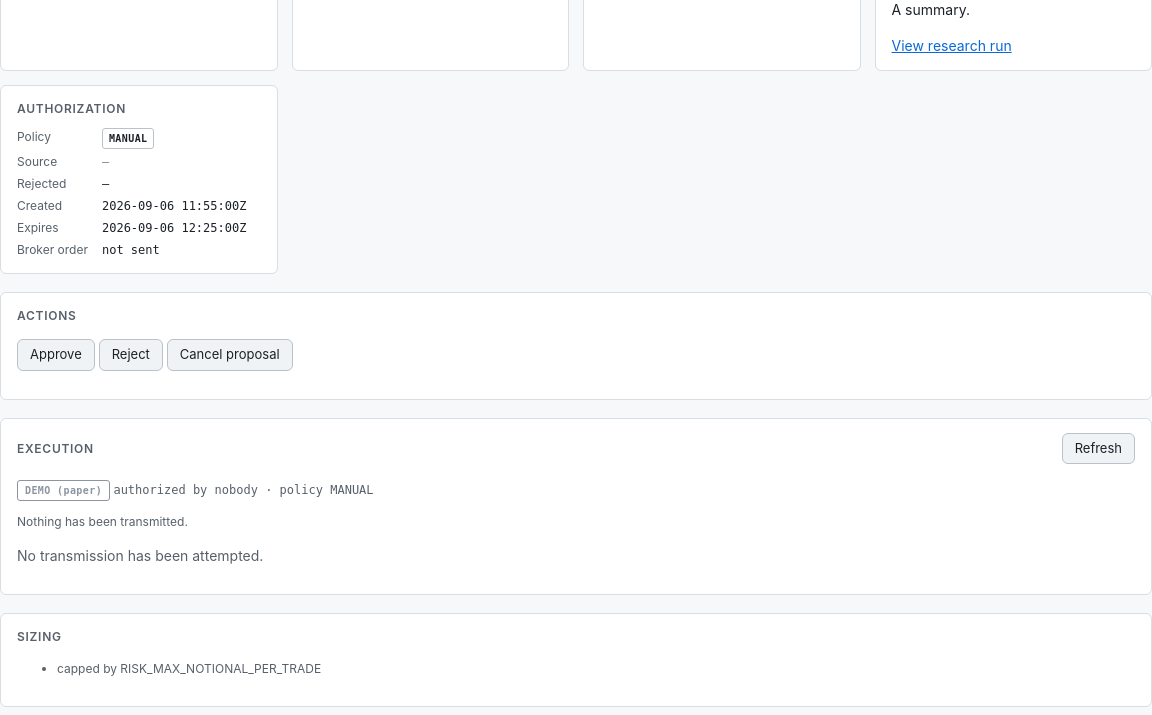
Test: Proposal authorization › shows a risk refusal as an answer, with its status
(page scrolled)
Click the button "Approve" at [56, 355], box [17,339,95,371]
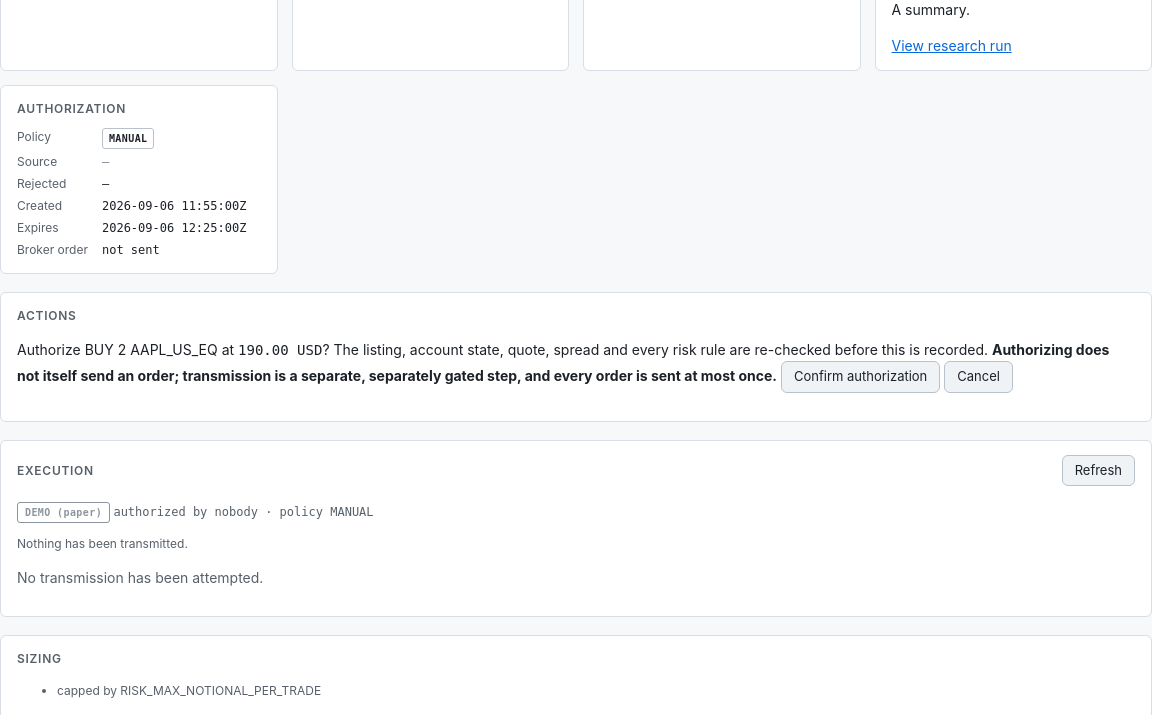
Click the button "Confirm authorization" at [861, 377], box [781,361,940,393]
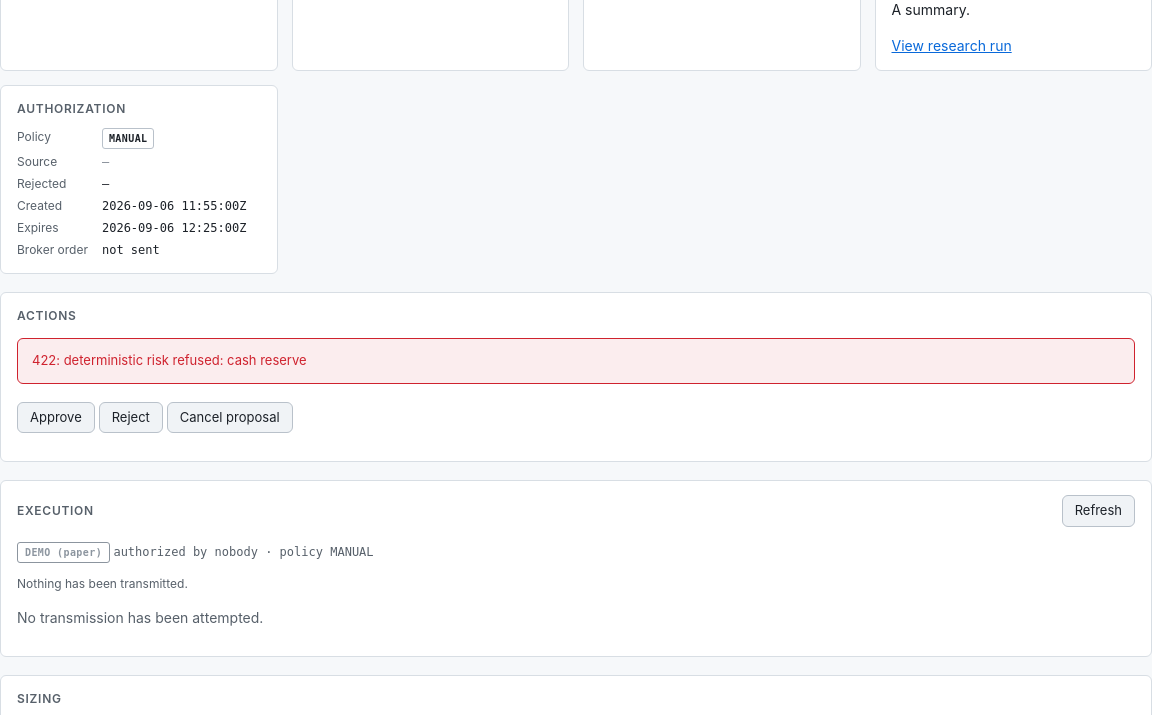
Check: the message shows "422", box [32,352,307,368]
Check: the message shows "deterministic risk refused: cash reserve", box [32,352,307,368]
